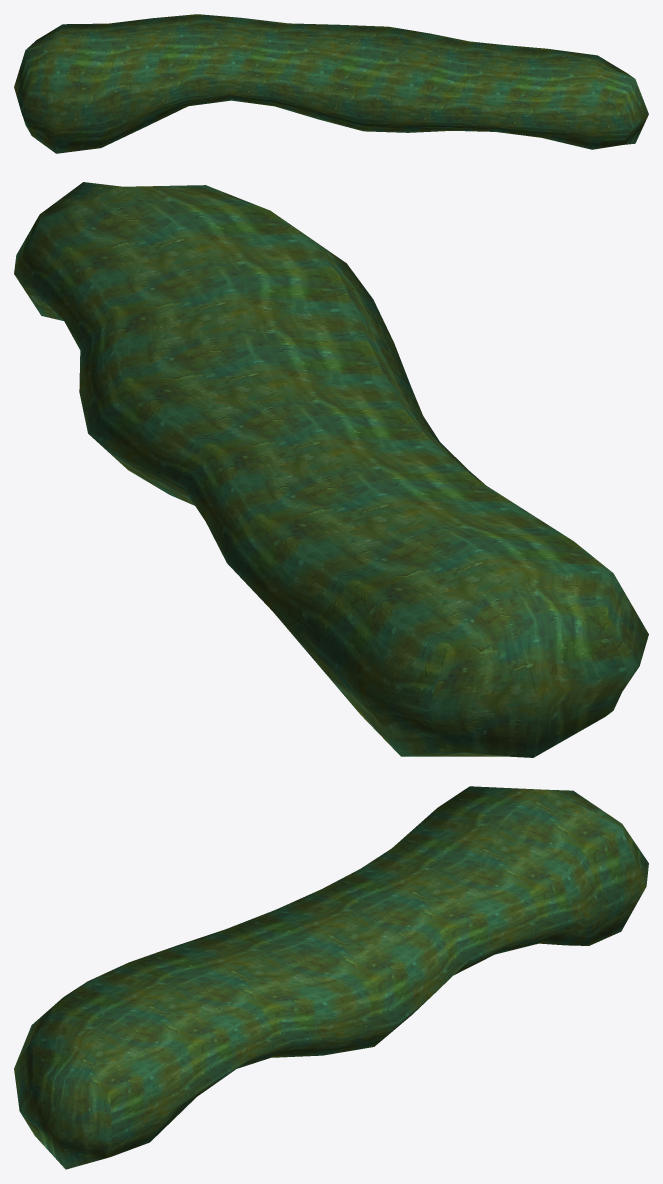
File: MIRKWOOD_MIRK_PLAYSURFACE230.fbx
3 views of the same model, one above another, from view 1: azimuth 30°, elevation 25°; view 2: azimuth 150°, elevation 25°; view 3: azimuth 270°, elevation 25° (orthographic). The views are drawn at different scales.
Parts seen in each view (by area): view 1: MIRKWOOD_MIRK_PLAYSURFACE230; view 2: MIRKWOOD_MIRK_PLAYSURFACE230; view 3: MIRKWOOD_MIRK_PLAYSURFACE230.
Boxes of the visible parts, bbox=[...] form: MIRKWOOD_MIRK_PLAYSURFACE230: bbox=[14, 14, 648, 153]; MIRKWOOD_MIRK_PLAYSURFACE230: bbox=[14, 182, 648, 757]; MIRKWOOD_MIRK_PLAYSURFACE230: bbox=[14, 786, 648, 1169].
Bounding box in the file's own units: 77188 × 15394 × 63924.
1 material, 1 textured.
